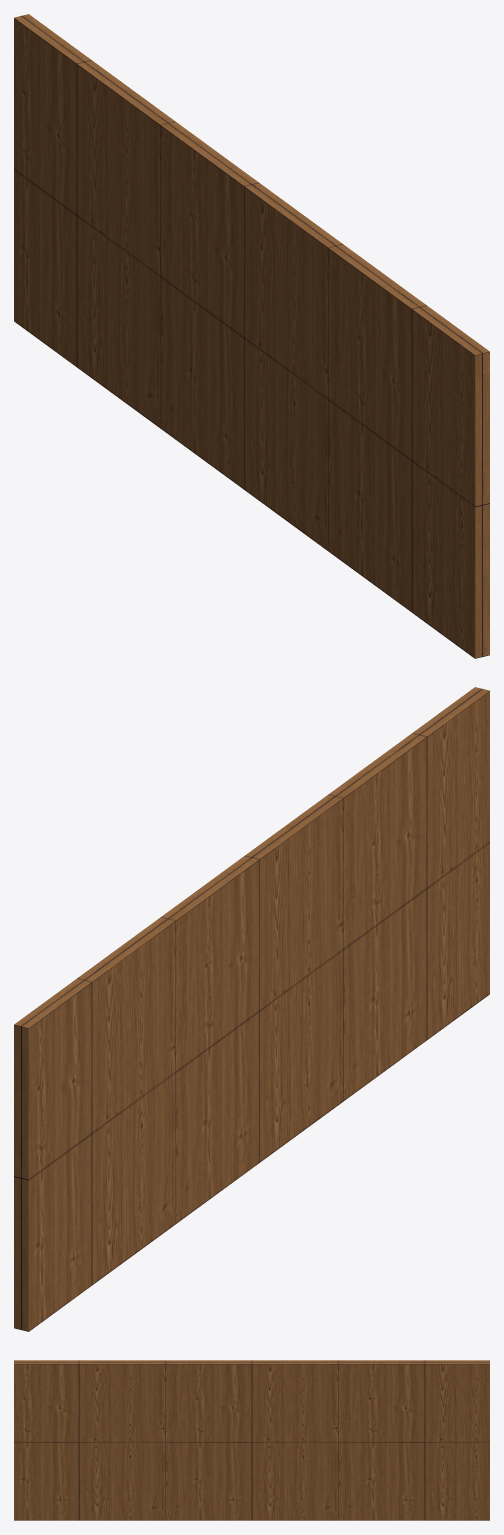
Rendered from souplongwall039.glb.
3 renders of one model, top to bottom at view 1: azimuth 30°, elevation 25°; view 2: azimuth 150°, elevation 25°; view 3: azimuth 270°, elevation 25°, orthographic. The views are drawn at different scales.
Visible parts, largest first — view 1: souplongwall039_high_1; view 2: souplongwall039_high_1; view 3: souplongwall039_high_1.
Part boxes in pixels (bbox=[...]): souplongwall039_high_1: bbox=[14, 14, 489, 658]; souplongwall039_high_1: bbox=[14, 687, 489, 1331]; souplongwall039_high_1: bbox=[14, 1360, 489, 1520].
Bounding box in the file's own units: 0.1504 × 2.95 × 8.11.
Materials: 1 (1 with a texture image).
